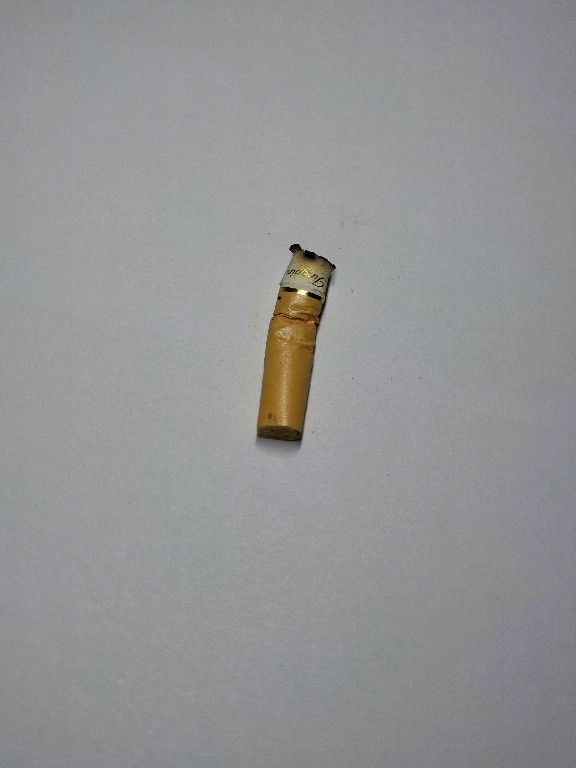cigarette: (254, 240, 335, 447)
